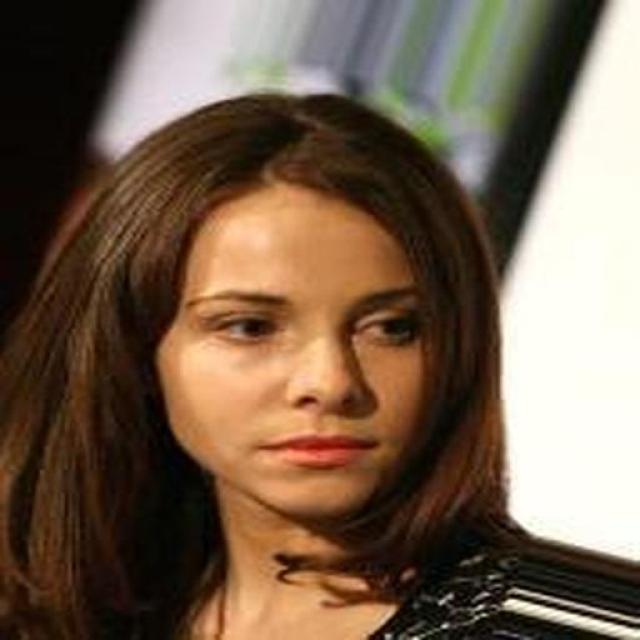bareface: (162, 197, 442, 514)
